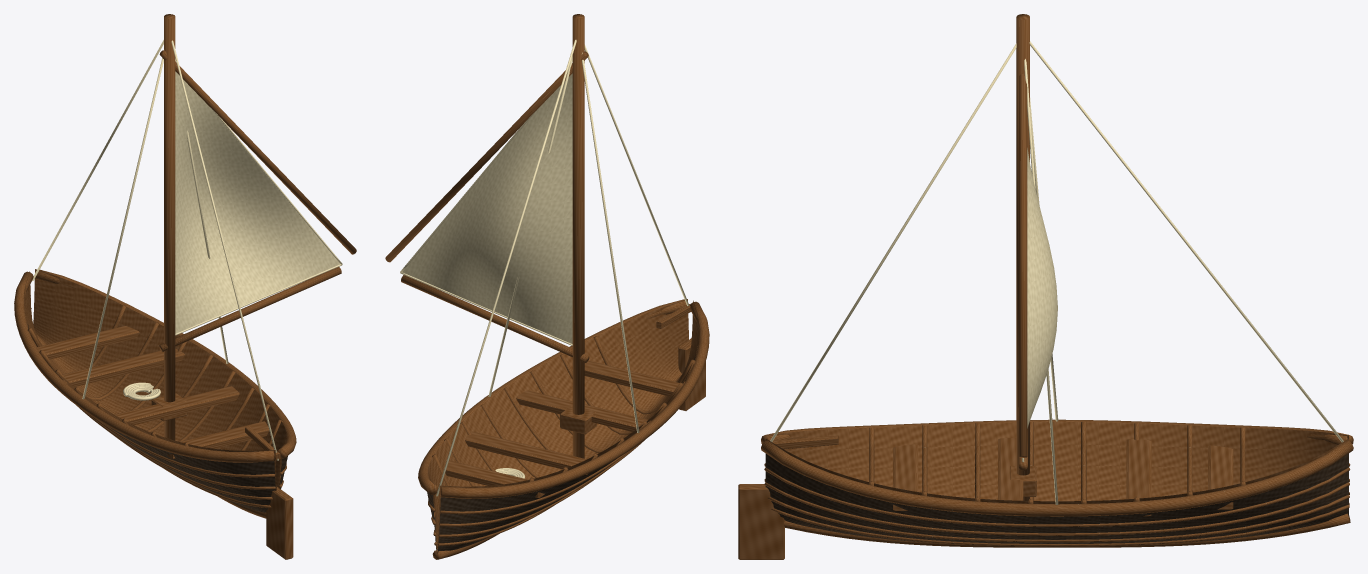
File: fishing_sailboat.glb
The picture shows the model from 3 angles, left to right: view 1: azimuth 30°, elevation 25°; view 2: azimuth 150°, elevation 25°; view 3: azimuth 270°, elevation 25°; orthographic projection. The views are drawn at different scales.
Parts seen in each view (by area): view 1: fishing_sailboat_Hull.001, fishing_sailboat_Sail.001, fishing_sailboat_Joinery.001, fishing_sailboat_Detail.001; view 2: fishing_sailboat_Hull.001, fishing_sailboat_Sail.001, fishing_sailboat_Joinery.001, fishing_sailboat_Detail.001; view 3: fishing_sailboat_Hull.001, fishing_sailboat_Joinery.001, fishing_sailboat_Sail.001, fishing_sailboat_Detail.001.
Boxes of the visible parts, x1=… form: fishing_sailboat_Hull.001: x1=14, y1=269, x2=296, y2=518; fishing_sailboat_Sail.001: x1=175, y1=71, x2=340, y2=333; fishing_sailboat_Joinery.001: x1=27, y1=14, x2=356, y2=559; fishing_sailboat_Detail.001: x1=32, y1=40, x2=342, y2=460; fishing_sailboat_Hull.001: x1=418, y1=299, x2=709, y2=559; fishing_sailboat_Sail.001: x1=402, y1=73, x2=572, y2=343; fishing_sailboat_Joinery.001: x1=385, y1=14, x2=705, y2=497; fishing_sailboat_Detail.001: x1=400, y1=39, x2=689, y2=496; fishing_sailboat_Hull.001: x1=761, y1=419, x2=1353, y2=547; fishing_sailboat_Joinery.001: x1=738, y1=14, x2=1245, y2=559; fishing_sailboat_Sail.001: x1=1027, y1=148, x2=1057, y2=428; fishing_sailboat_Detail.001: x1=770, y1=41, x2=1343, y2=504.
Size of the model in its own units: 3.72 by 6.14 by 6.33.
Materials: 1 (1 with a texture image).
